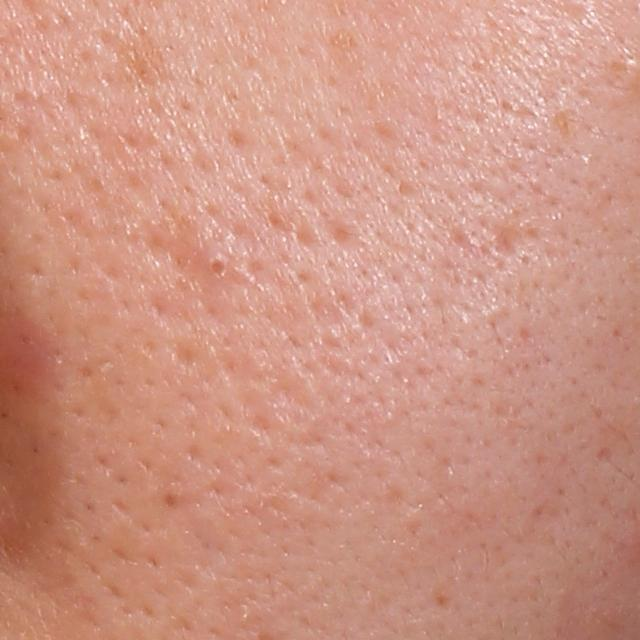atrophic_scar: (140, 210, 249, 325), (486, 221, 526, 259)
